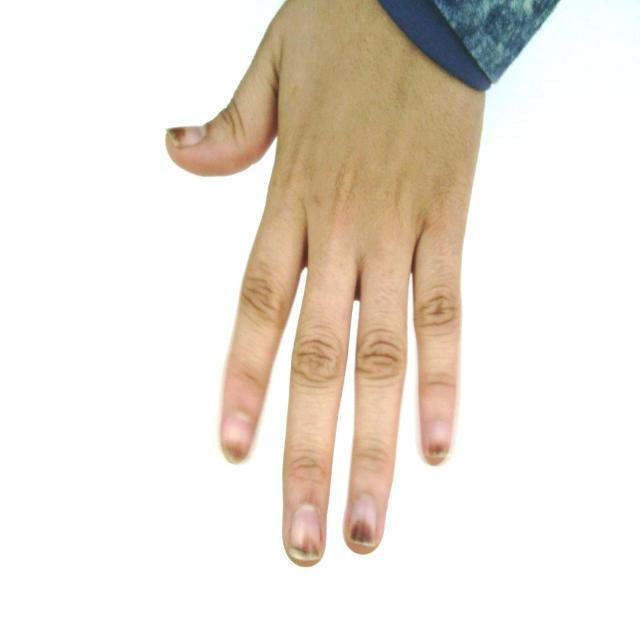Fingernail: (288, 506, 322, 564), (224, 414, 254, 464), (350, 495, 377, 546), (426, 422, 450, 463), (167, 127, 205, 148)
